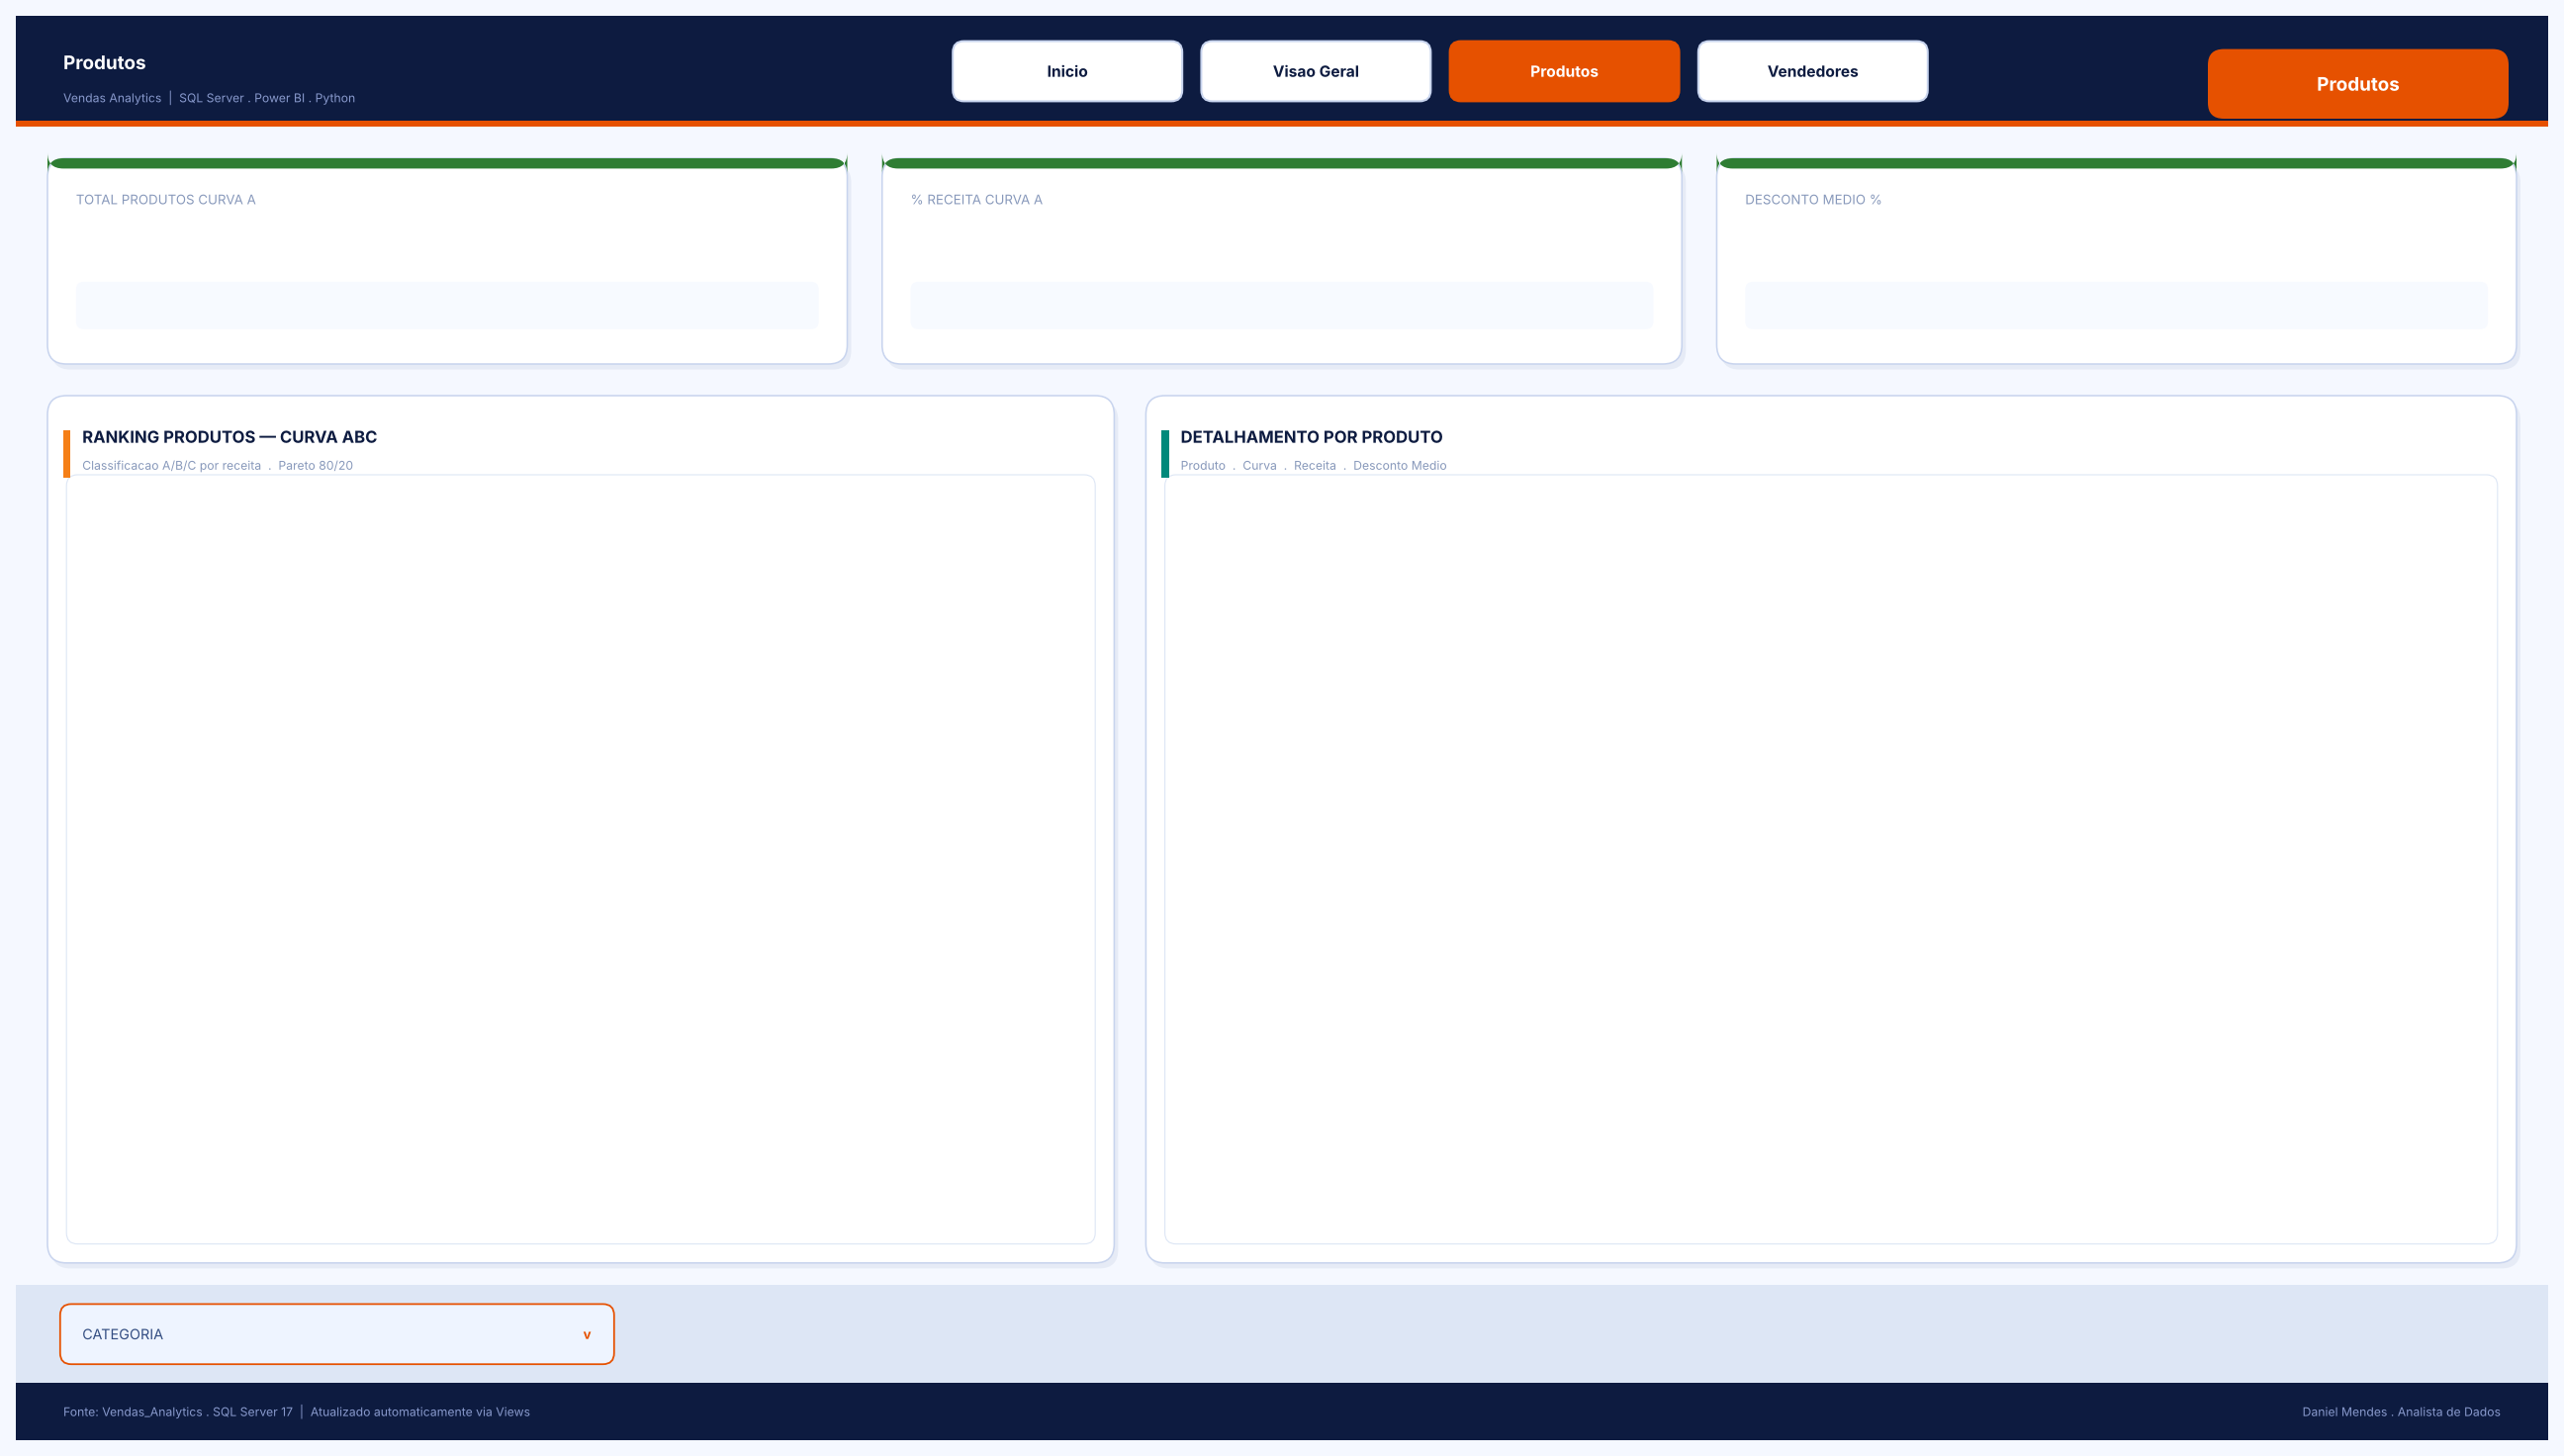

The dashboard page shown, as its layout file describes it:
{"tool":"powerbi","page":{"name":"Produtos","canvas":[1920,1080],"ordinal":2},"visuals":[{"type":"actionButton","box":[714.9,22,169.4,41.8],"z":0},{"type":"actionButton","box":[899.7,22,169.4,41.8],"z":1000},{"type":"actionButton","box":[1273.7,22,173.8,41.8],"z":2000},{"type":"cardVisual","fields":{"Data":["_Medidas.Total Produtos A"]},"box":[46.2,176,563.2,83.6],"z":3000},{"type":"cardVisual","fields":{"Data":["_Medidas.% Receita Curva A"]},"box":[677.5,176,563.2,83.6],"z":4000},{"type":"cardVisual","fields":{"Data":["_Medidas.Desconto Médio Produtos"]},"box":[1304.5,176,563.2,83.6],"z":5000},{"type":"clusteredBarChart","fields":{"Category":["vw_ranking_produtos_abc.produto"],"Series":["vw_ranking_produtos_abc.curva_abc"],"Y":["Sum(vw_ranking_produtos_abc.receita_total)"]},"box":[46.2,358.6,769.9,561],"z":6000},{"type":"tableEx","fields":{"Values":["vw_ranking_produtos_abc.ranking","vw_ranking_produtos_abc.produto","vw_ranking_produtos_abc.curva_abc","Sum(vw_ranking_produtos_abc.receita_total)","Sum(vw_ranking_produtos_abc.qtd_pedidos)","Sum(vw_ranking_produtos_abc.desconto_medio_pct)"]},"box":[956.9,358.6,811.7,561],"z":7000},{"type":"slicer","fields":{"Values":["vw_ranking_produtos_abc.categoria"]},"box":[154,972.3,299.2,39.6],"z":8000}]}

Visuals, with their boxes in screenshot pixels (x1, y1, x2, y2), scaled from the page's 1920x1080 canvas onto the 2564x1456 screenshot:
actionButton: {"x1": 955, "y1": 30, "x2": 1181, "y2": 86}
actionButton: {"x1": 1202, "y1": 30, "x2": 1427, "y2": 86}
actionButton: {"x1": 1700, "y1": 30, "x2": 1933, "y2": 86}
cardVisual - _Medidas.Total Produtos A: {"x1": 61, "y1": 237, "x2": 814, "y2": 350}
cardVisual - _Medidas.% Receita Curva A: {"x1": 905, "y1": 237, "x2": 1657, "y2": 350}
cardVisual - _Medidas.Desconto Médio Produtos: {"x1": 1742, "y1": 237, "x2": 2494, "y2": 350}
clusteredBarChart - vw_ranking_produtos_abc.produto x vw_ranking_produtos_abc.curva_abc: {"x1": 61, "y1": 484, "x2": 1090, "y2": 1239}
tableEx - vw_ranking_produtos_abc.ranking x vw_ranking_produtos_abc.produto: {"x1": 1278, "y1": 484, "x2": 2362, "y2": 1239}
slicer - vw_ranking_produtos_abc.categoria: {"x1": 206, "y1": 1311, "x2": 605, "y2": 1364}
